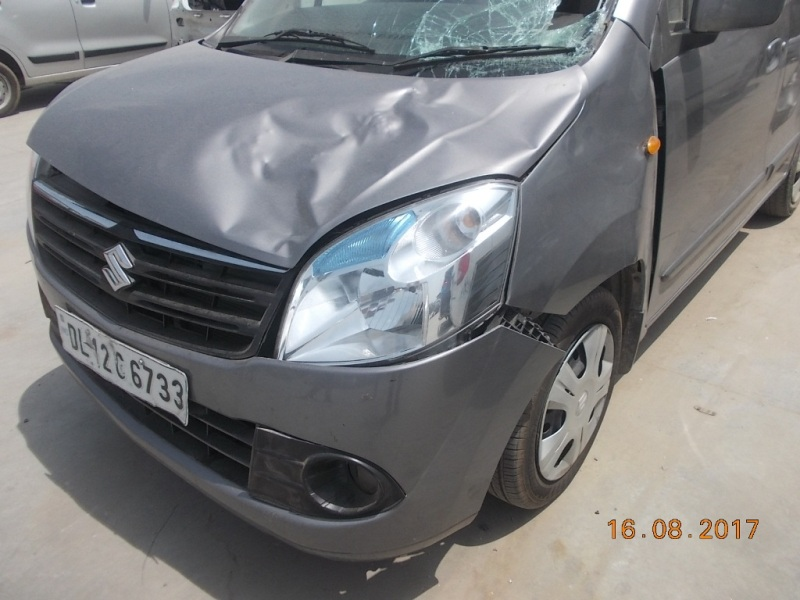Shatter: (12, 423, 385, 592), (187, 338, 328, 416), (123, 367, 176, 416)
